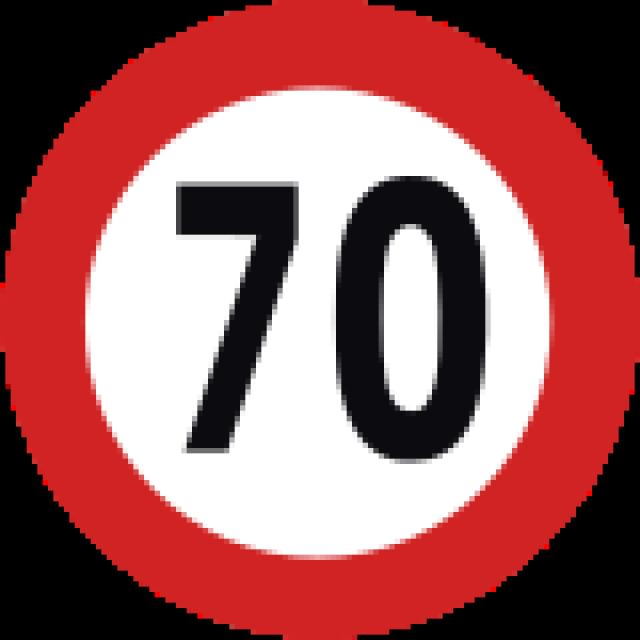Speed Limit -70-: (138, 161, 506, 492)
